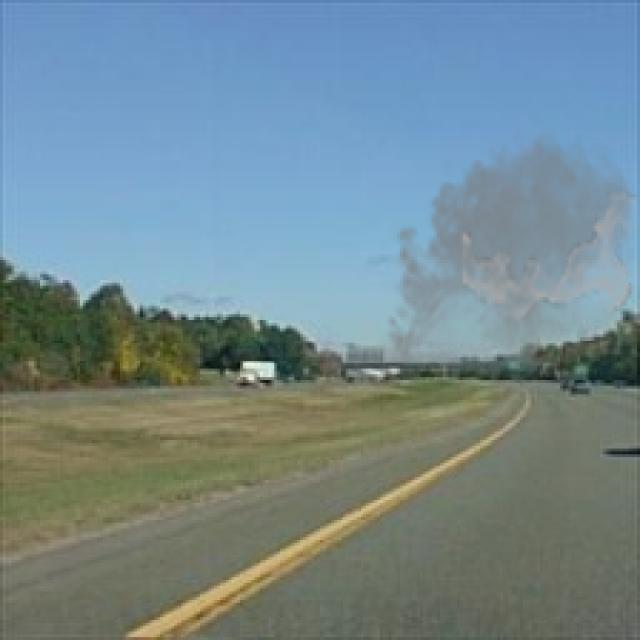smoke: (380, 120, 637, 397)
